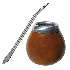guampa: (27, 21, 65, 64)
